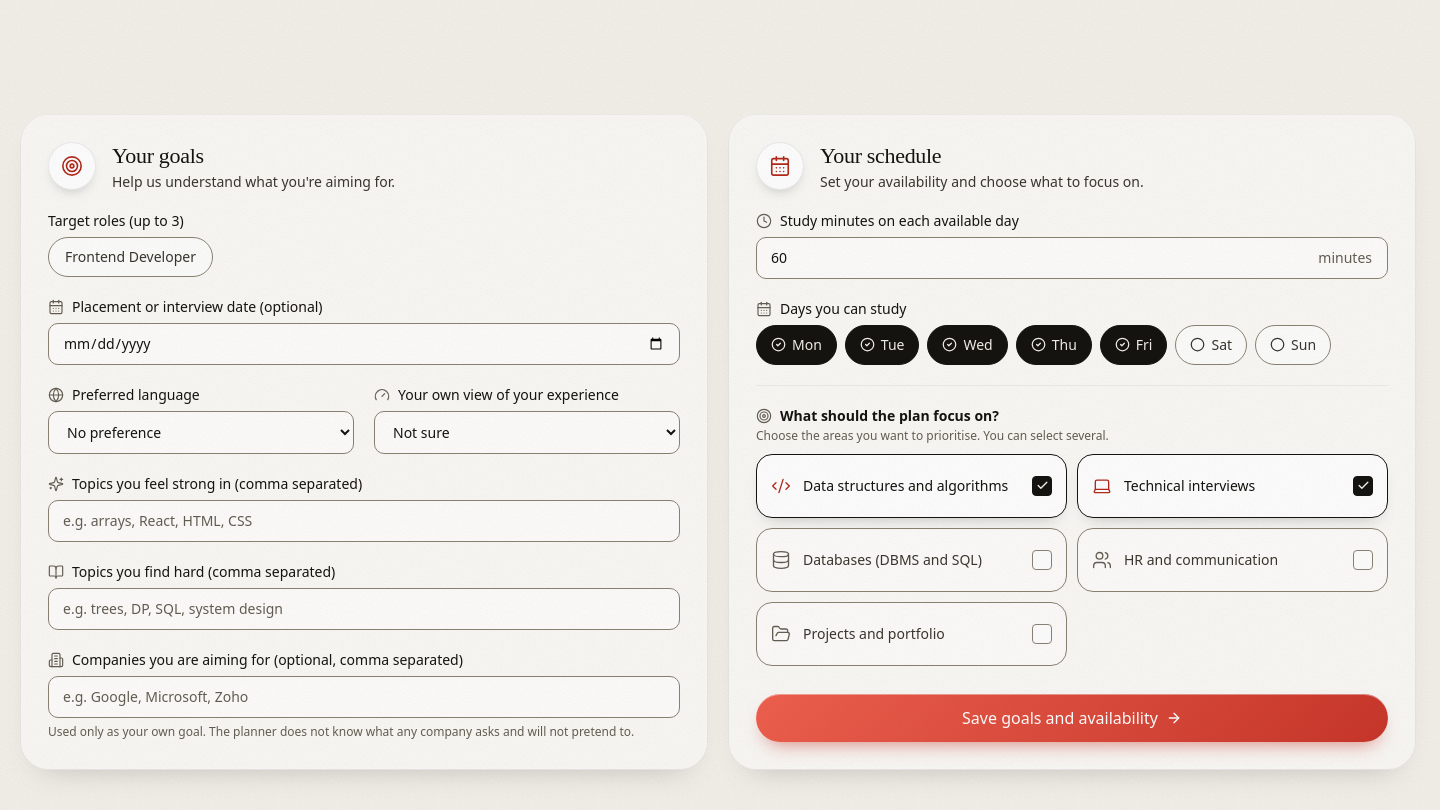
Test: placement: goals › shows the server's validation message and keeps the form
The width and height of the screenshot is (1440, 810).
(page scrolled)
Click the button "Save goals and availability" at x=1072, y=718, box [756,694,1388,742]
(page scrolled)
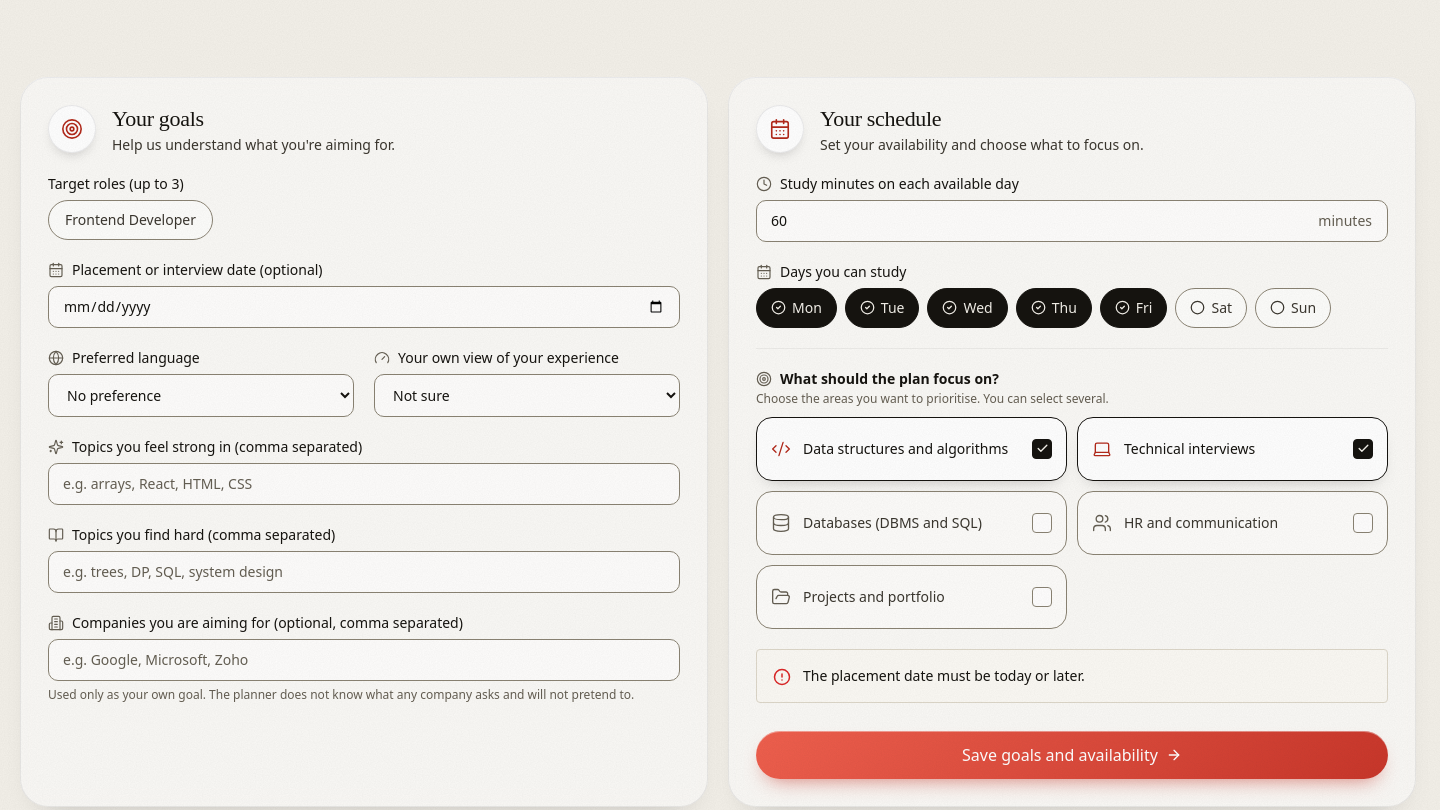
Now the text "The placement date must be today or later." is shown, box [803,666,1085,685]
